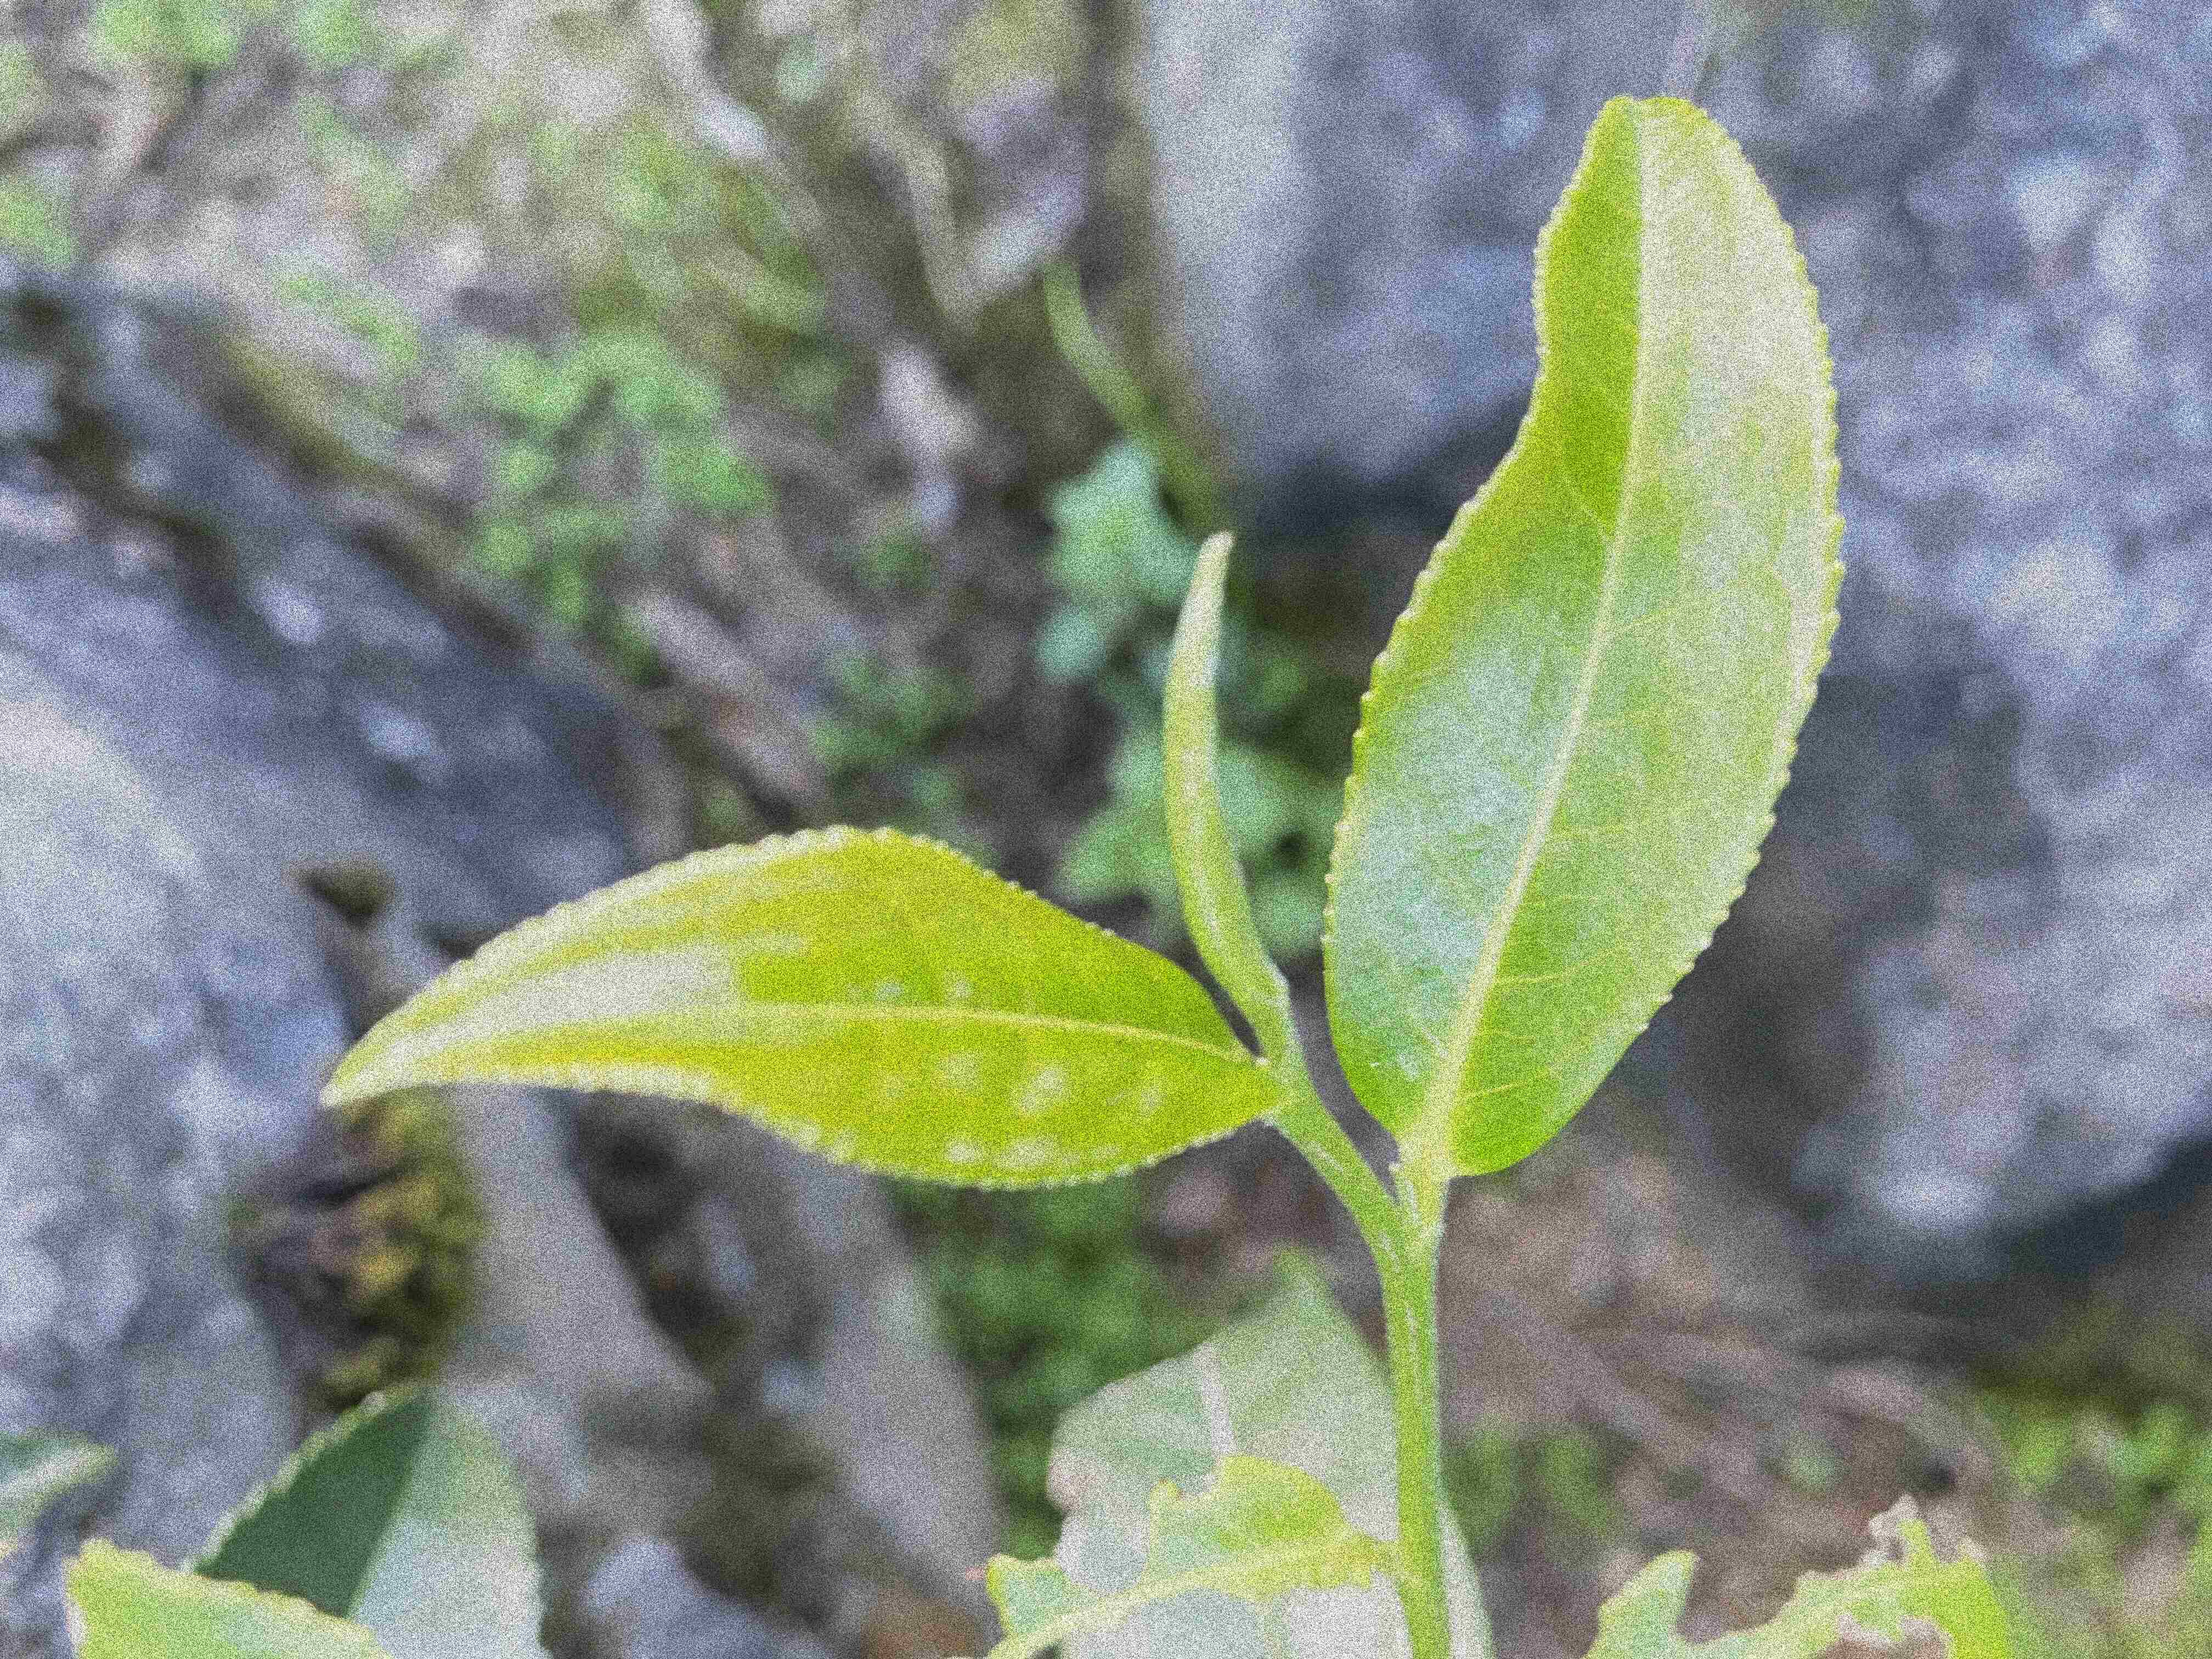chihuo_high: (963, 1452, 1376, 1656), (1573, 1490, 2026, 1656)
healthy: (1315, 89, 1855, 1178), (319, 817, 1277, 1194)
